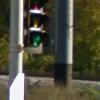Traffic light: (21, 4, 62, 68)
